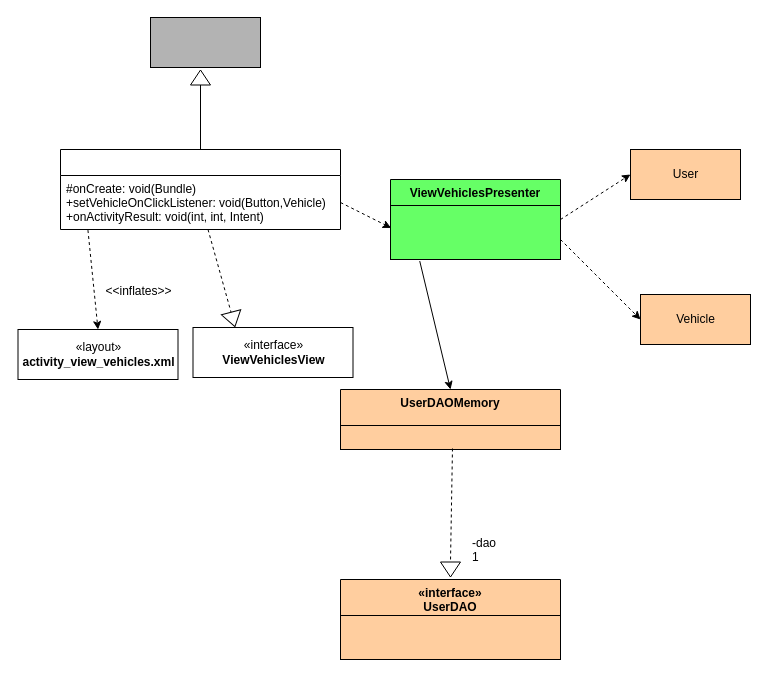
Image size: 768x680. Some labels were removed from this diagram. Each missing label, with the box of its shape:
+ find: User(String): (340, 614, 560, 660)
+showVehicles() : void +viewOneVehicle(): void: (390, 204, 560, 260)
AppCompatActivity: (150, 16, 260, 68)
ViewVehicles: (60, 148, 340, 230)
